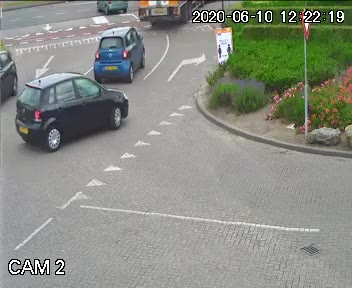car: (13, 70, 137, 149), (87, 21, 143, 90), (137, 0, 220, 29), (0, 45, 20, 100), (91, 0, 126, 13)
